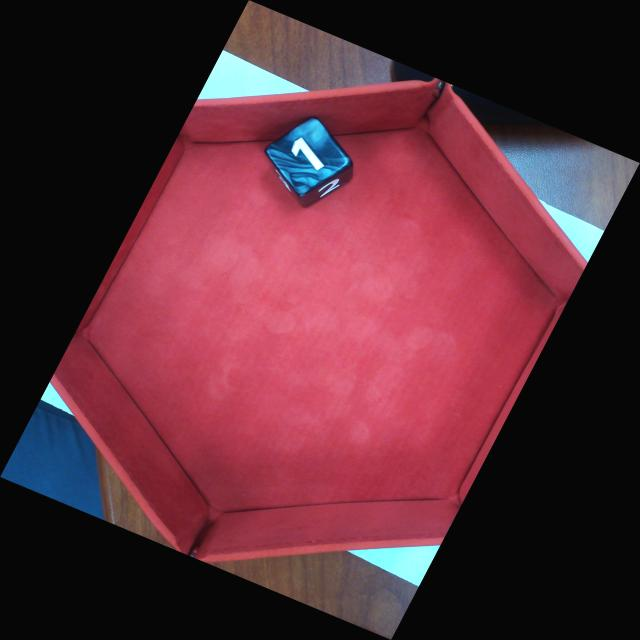dice: (260, 113, 355, 199)
